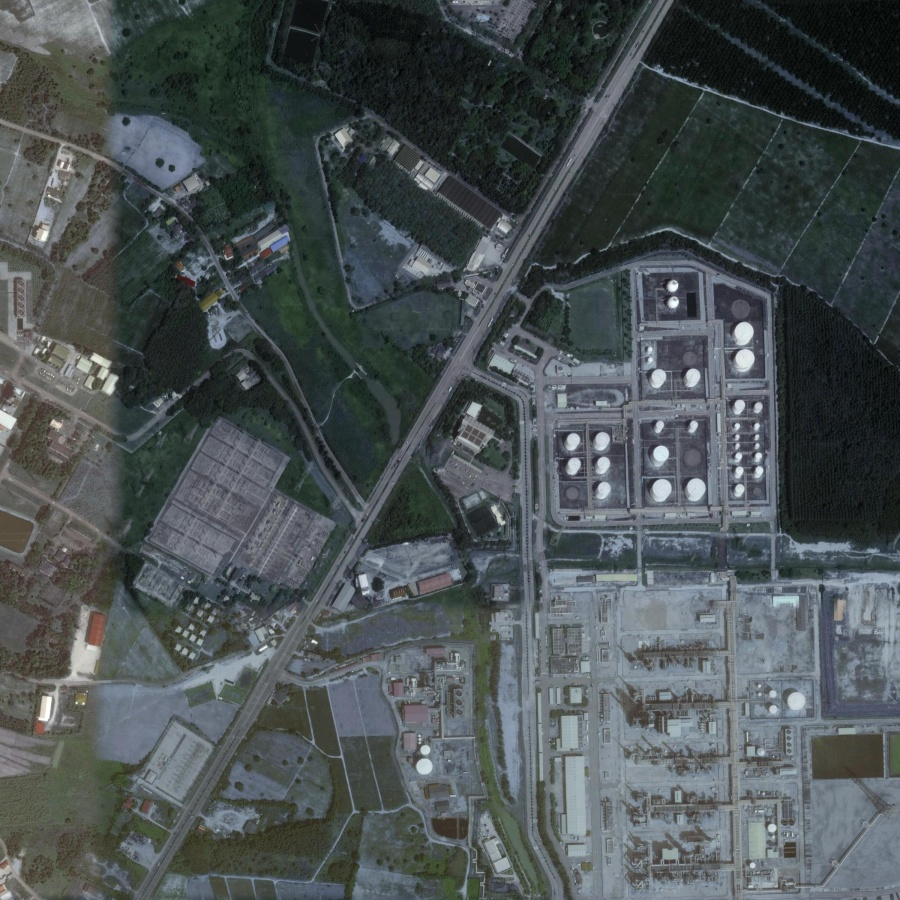PowerPlant: (501, 257, 779, 540), (613, 620, 807, 808)
